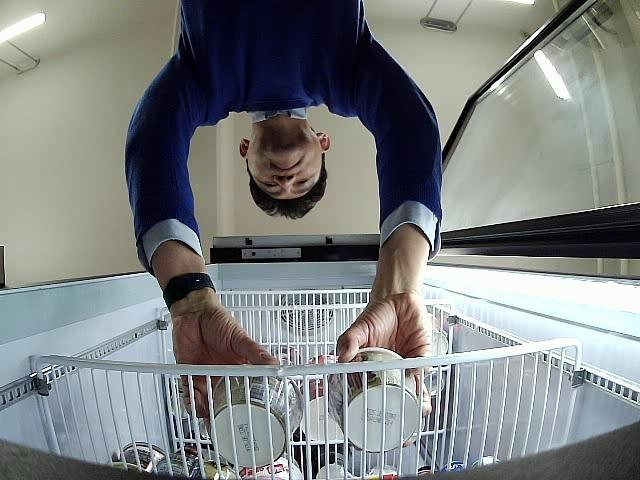04_chapagetti_S: (328, 348, 421, 452), (212, 376, 306, 468)
